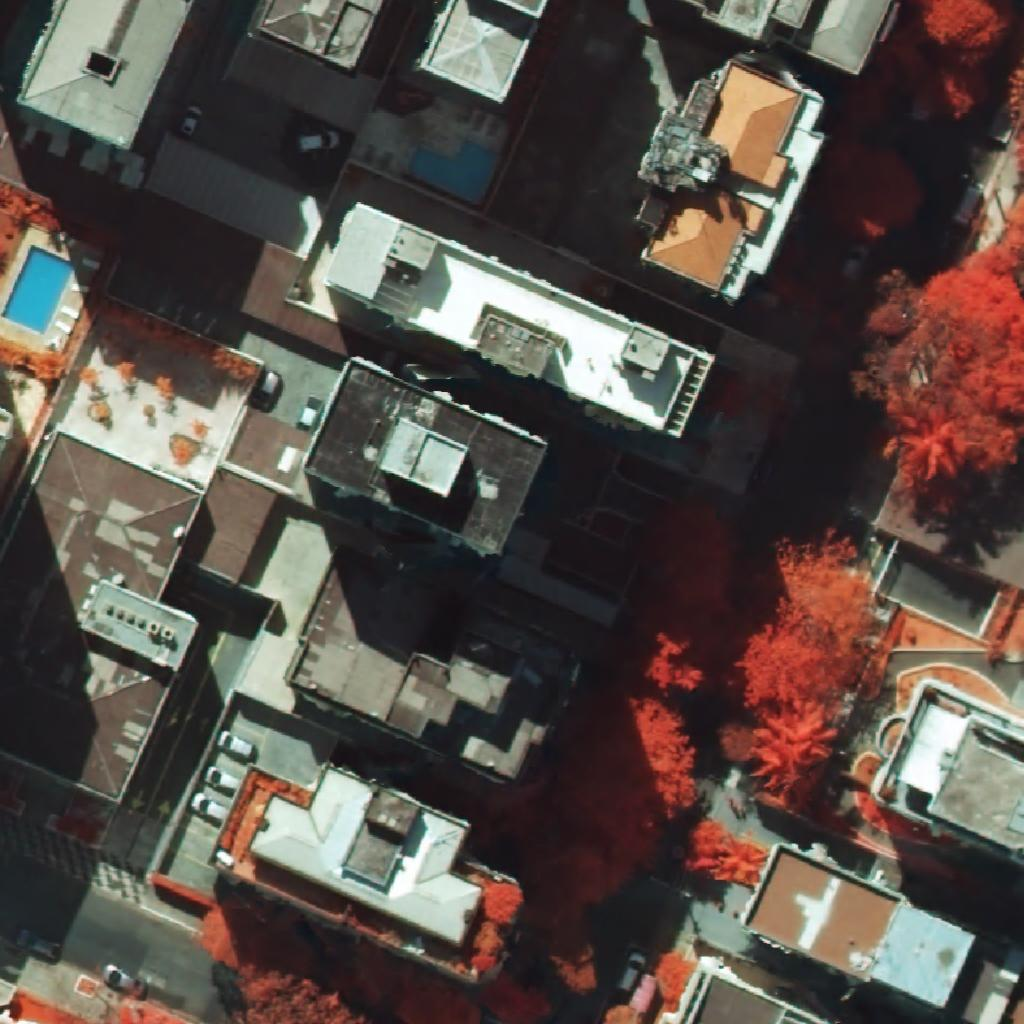pool: (2, 246, 75, 335), (410, 141, 497, 201)
